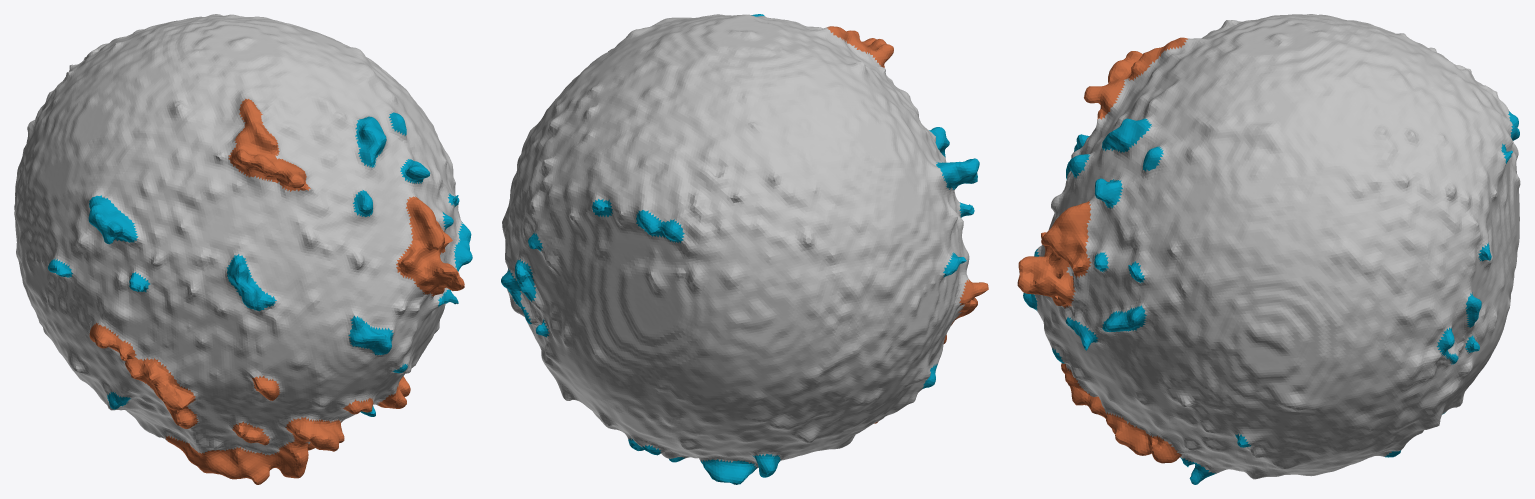
3 renders of one model, left to right at view 1: azimuth 30°, elevation 25°; view 2: azimuth 150°, elevation 25°; view 3: azimuth 270°, elevation 25°, orthographic. The views are drawn at different scales.
Size of the model in its own units: 128 by 124 by 132.
